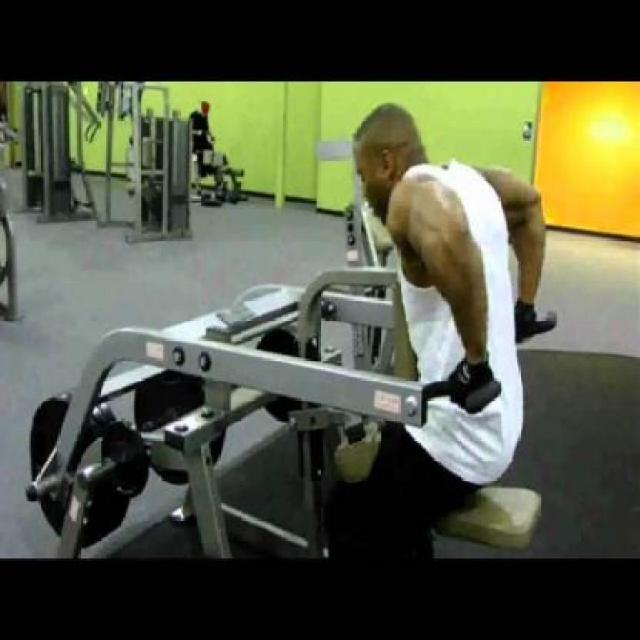seated dip machine: (31, 262, 557, 558)
